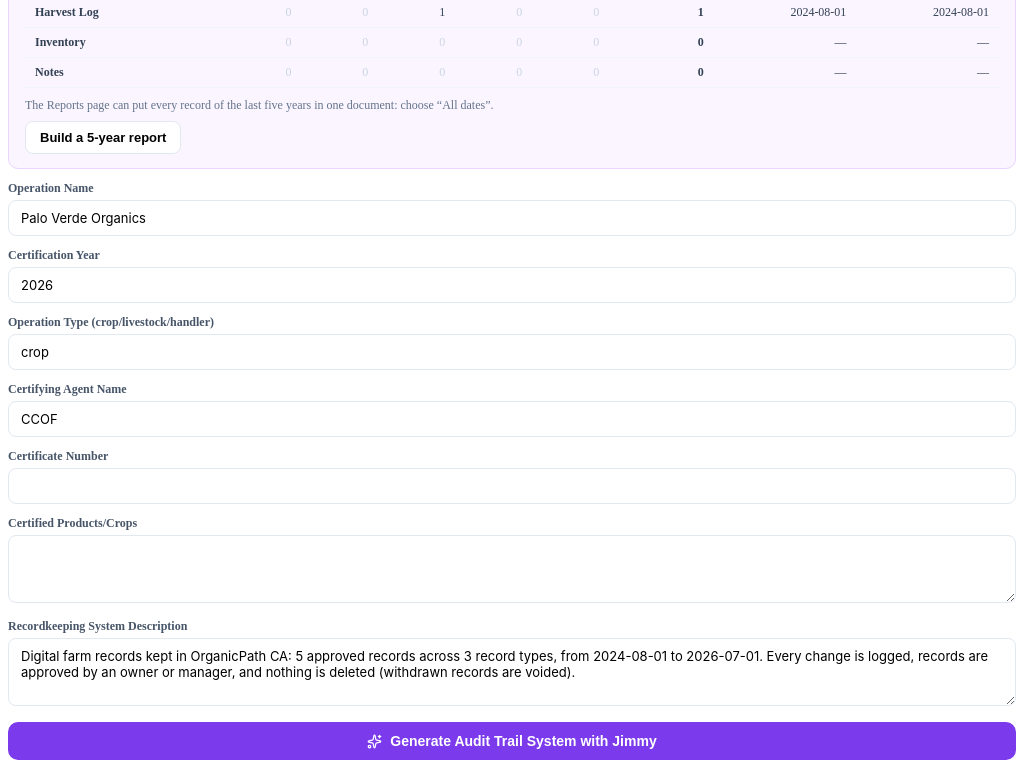
Test: AuditTrailForm: writing the document › shows the draft as a formatted document, with no markdown marks on screen
(page scrolled)
Click the button "Generate Audit Trail System with Jimmy" at [512, 741], box [8,722,1016,760]
(page scrolled)
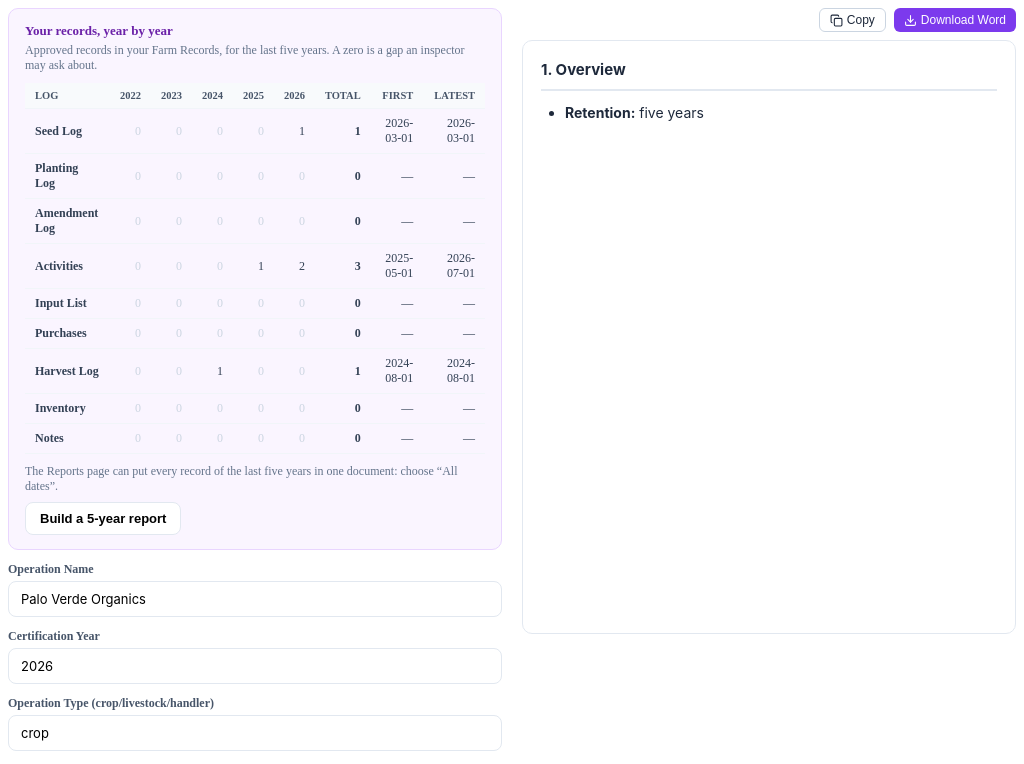
Now the heading "1. Overview" is shown, box [541,57,997,91]
Now the list item reads "Retention: five years", box [565,104,704,121]
